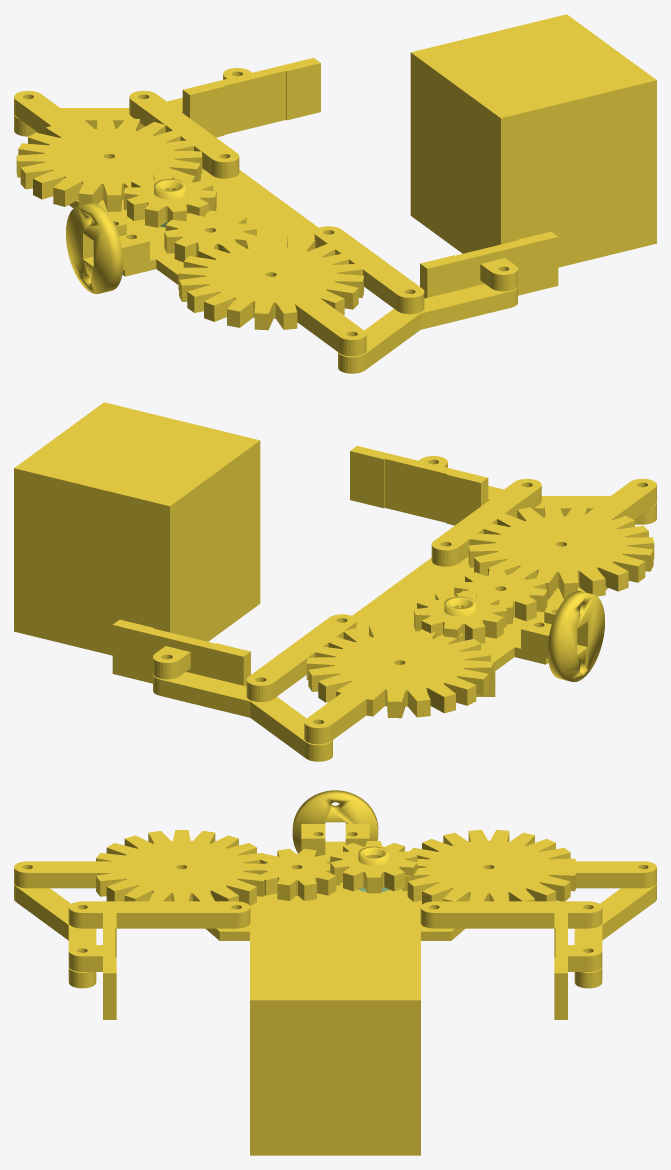
The model's file is openscad_claw.glb.
The picture shows the model from 3 angles, top to bottom: view 1: azimuth 30°, elevation 25°; view 2: azimuth 150°, elevation 25°; view 3: azimuth 270°, elevation 25°; orthographic projection. The views are drawn at different scales.
Parts seen in each view (by area): view 1: object; view 2: object; view 3: object.
Part boxes in pixels (bbox=[...]): object: bbox=[14, 14, 656, 373]; object: bbox=[14, 402, 656, 761]; object: bbox=[14, 790, 656, 1155].
Size of the model in its own units: 168 by 50 by 188.
